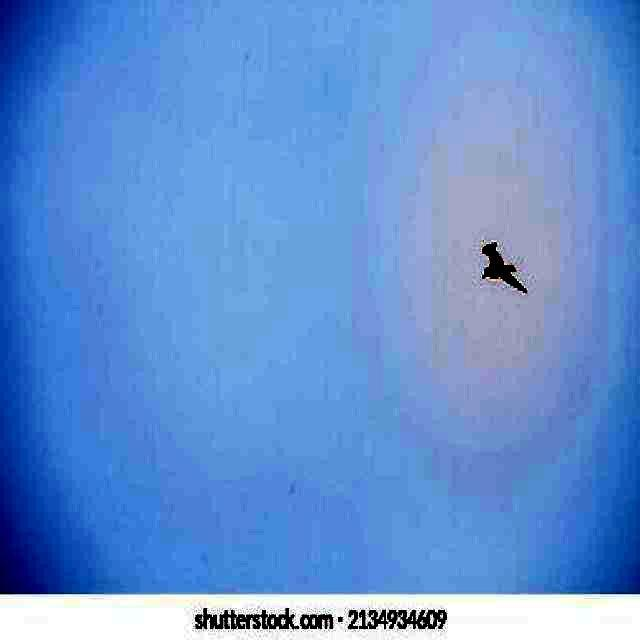bird: (477, 240, 525, 298)
